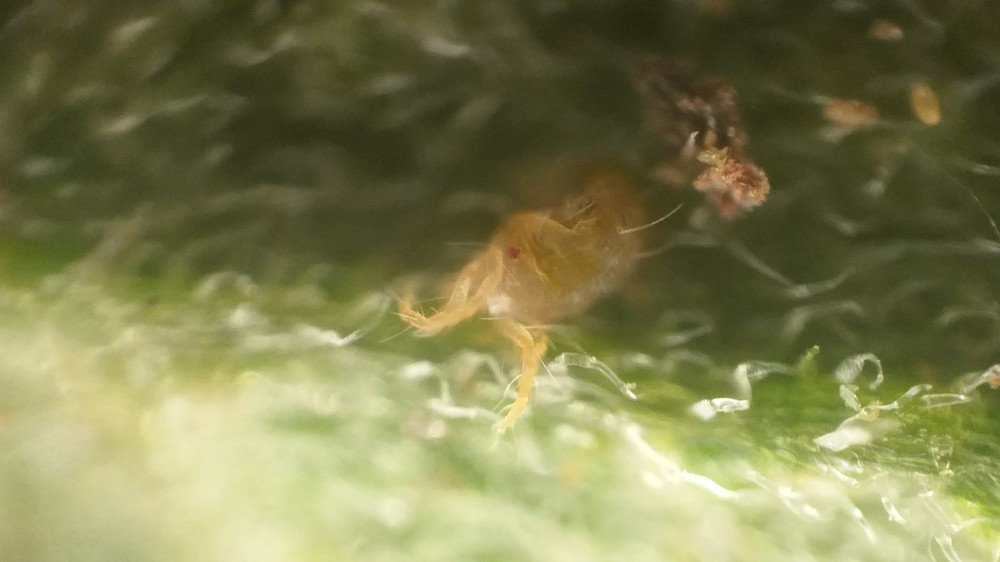Aracnido Rojo: (388, 150, 681, 430)
